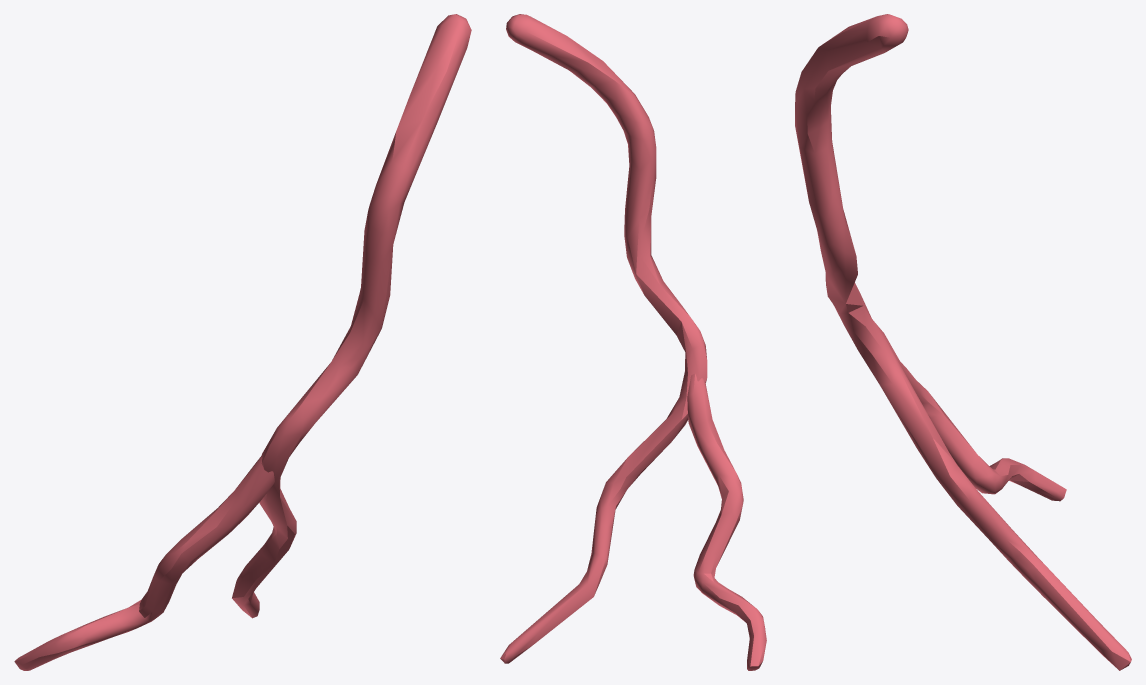
Rendered from fma3876_cx66.glb.
3 views of the same model, side by side, from view 1: azimuth 30°, elevation 25°; view 2: azimuth 150°, elevation 25°; view 3: azimuth 270°, elevation 25° (orthographic). The views are drawn at different scales.
Parts seen in each view (by area): view 1: FMA3876_CX66; view 2: FMA3876_CX66; view 3: FMA3876_CX66.
Part boxes in pixels (box(x1,y1,x2,y2)): FMA3876_CX66: box(14, 14, 471, 670); FMA3876_CX66: box(500, 14, 766, 670); FMA3876_CX66: box(795, 14, 1131, 670).
Bounding box in the file's own units: 0.0142 × 0.0238 × 0.0103.
